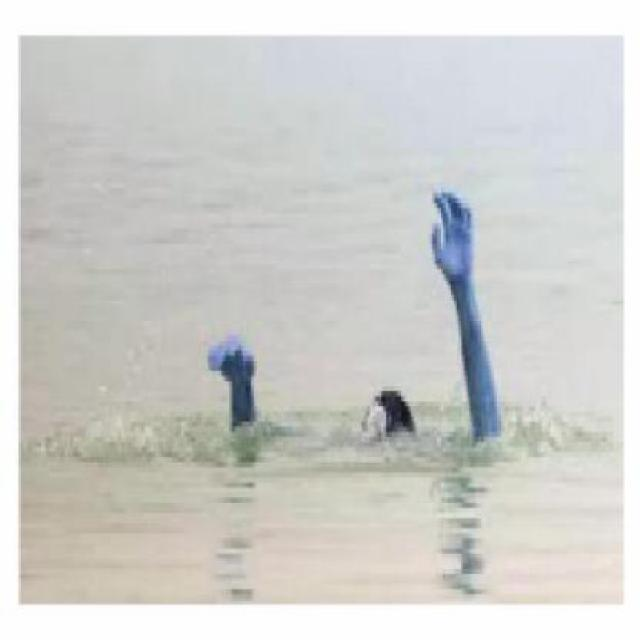drowning: (210, 192, 508, 452)
